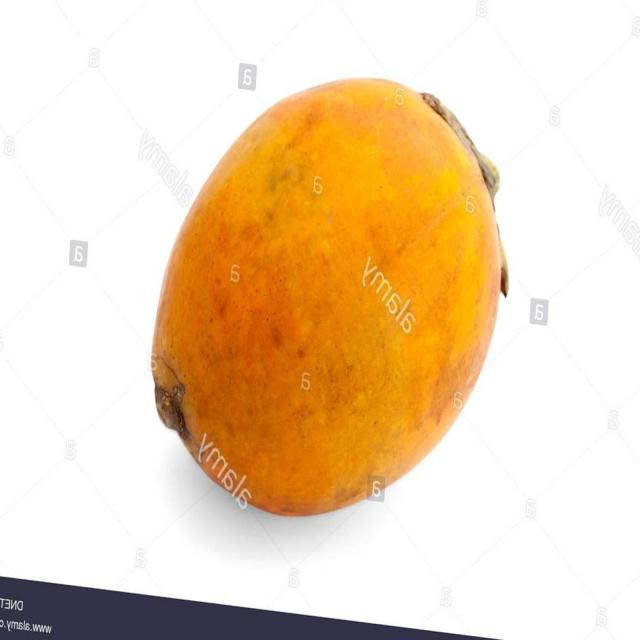good: (150, 78, 506, 519)
